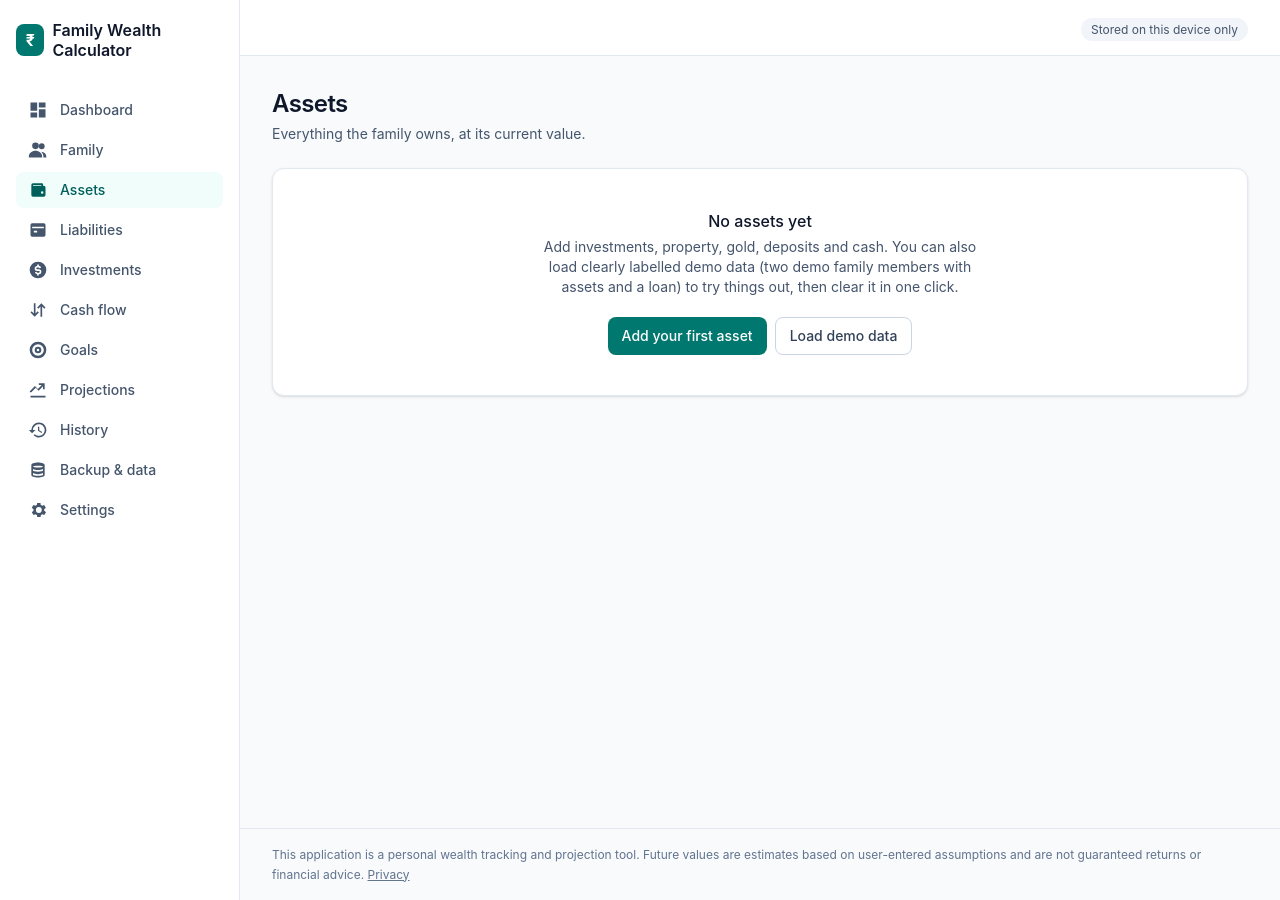
Scenario: Assets page › uses the lakh/crore number format when chosen in Settings
Click the button "Add your first asset": click(687, 336) [608,317,767,355]
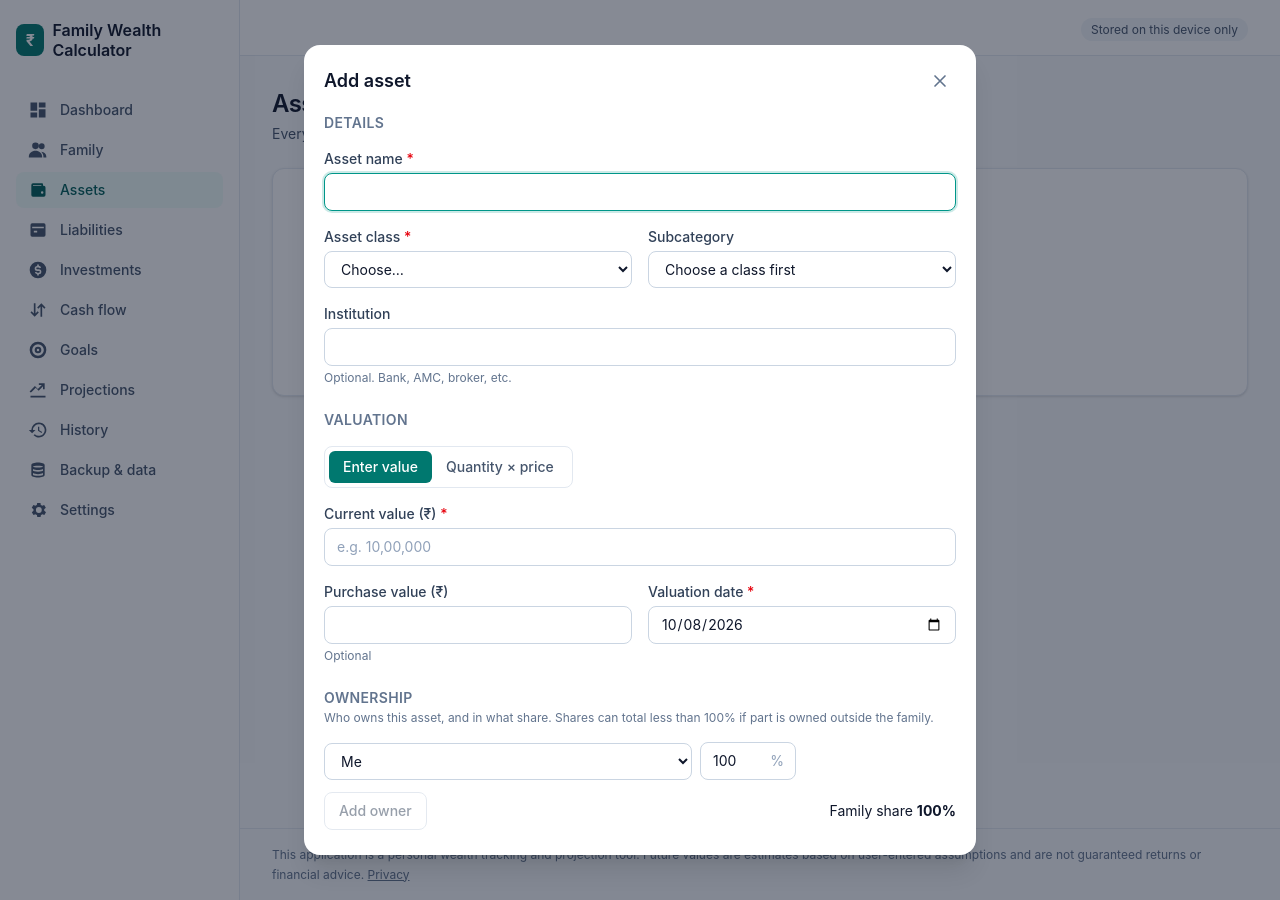
In the field labelled "Asset name *": (640, 192) [324,173,956,211], type "Example Property"
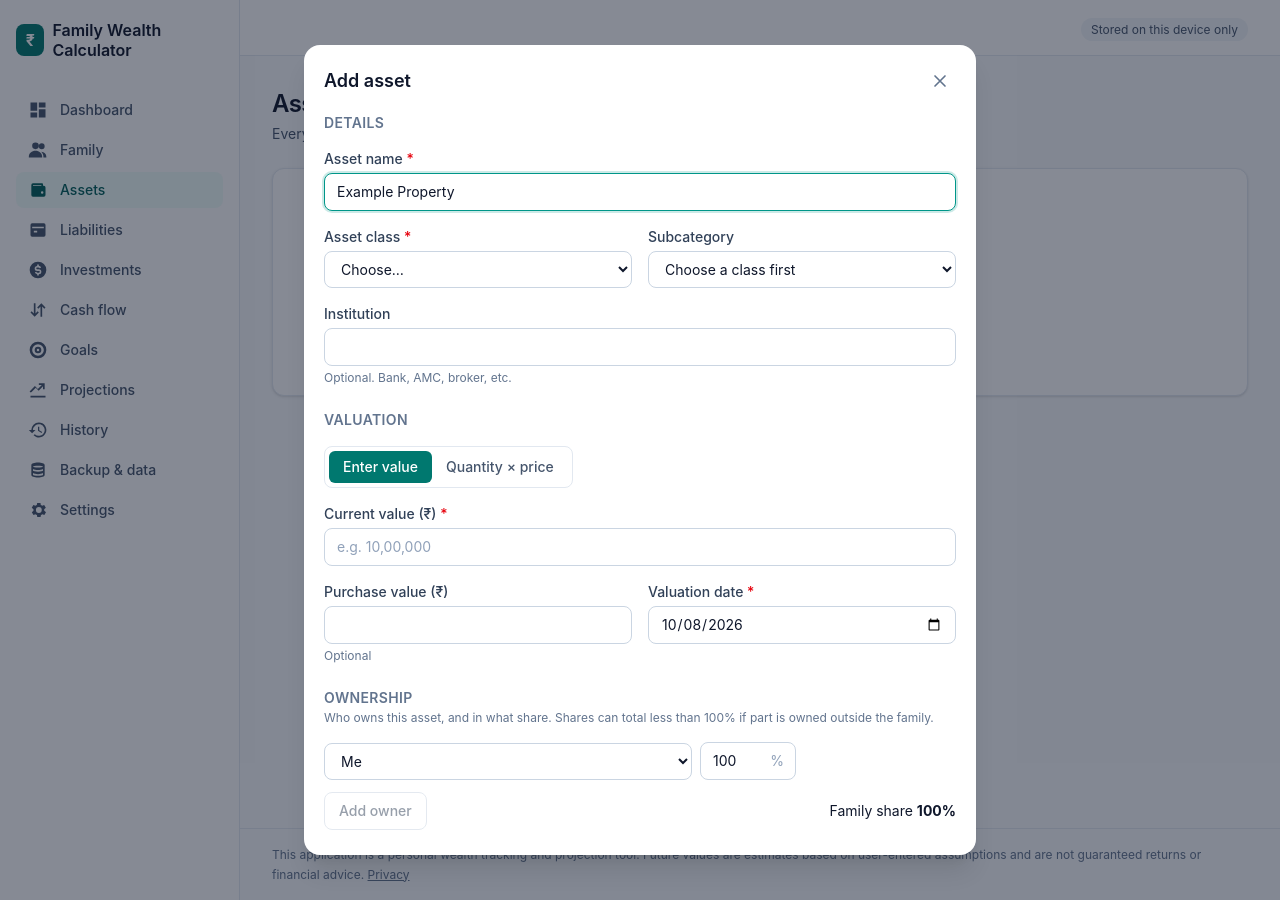
Select "Real Estate" in the dropdown labelled "Asset class *": (478, 270) [324,251,632,288]
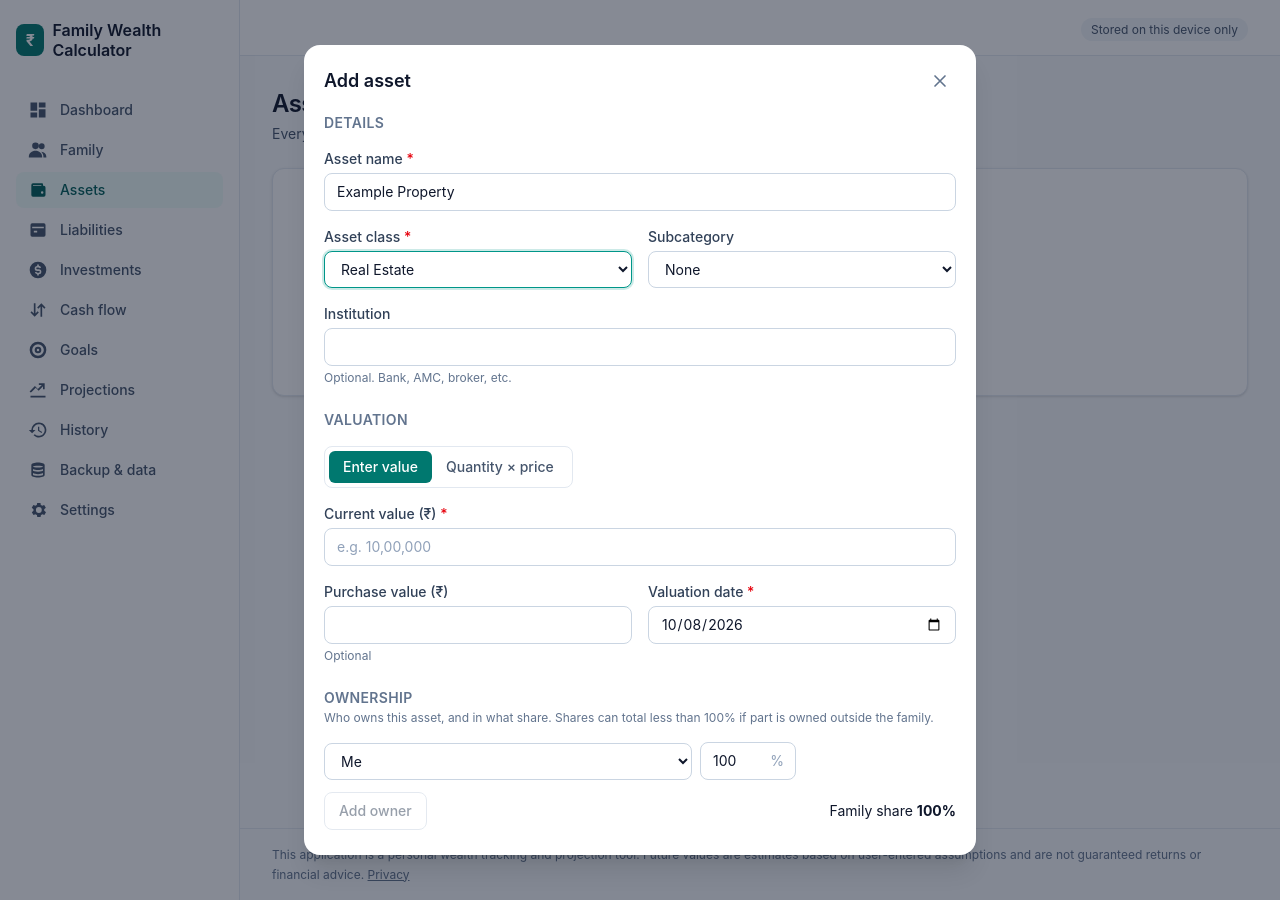
In the field labelled "Current value (₹) *": (640, 547) [324,528,956,566], type "25,00,000"
(page scrolled)
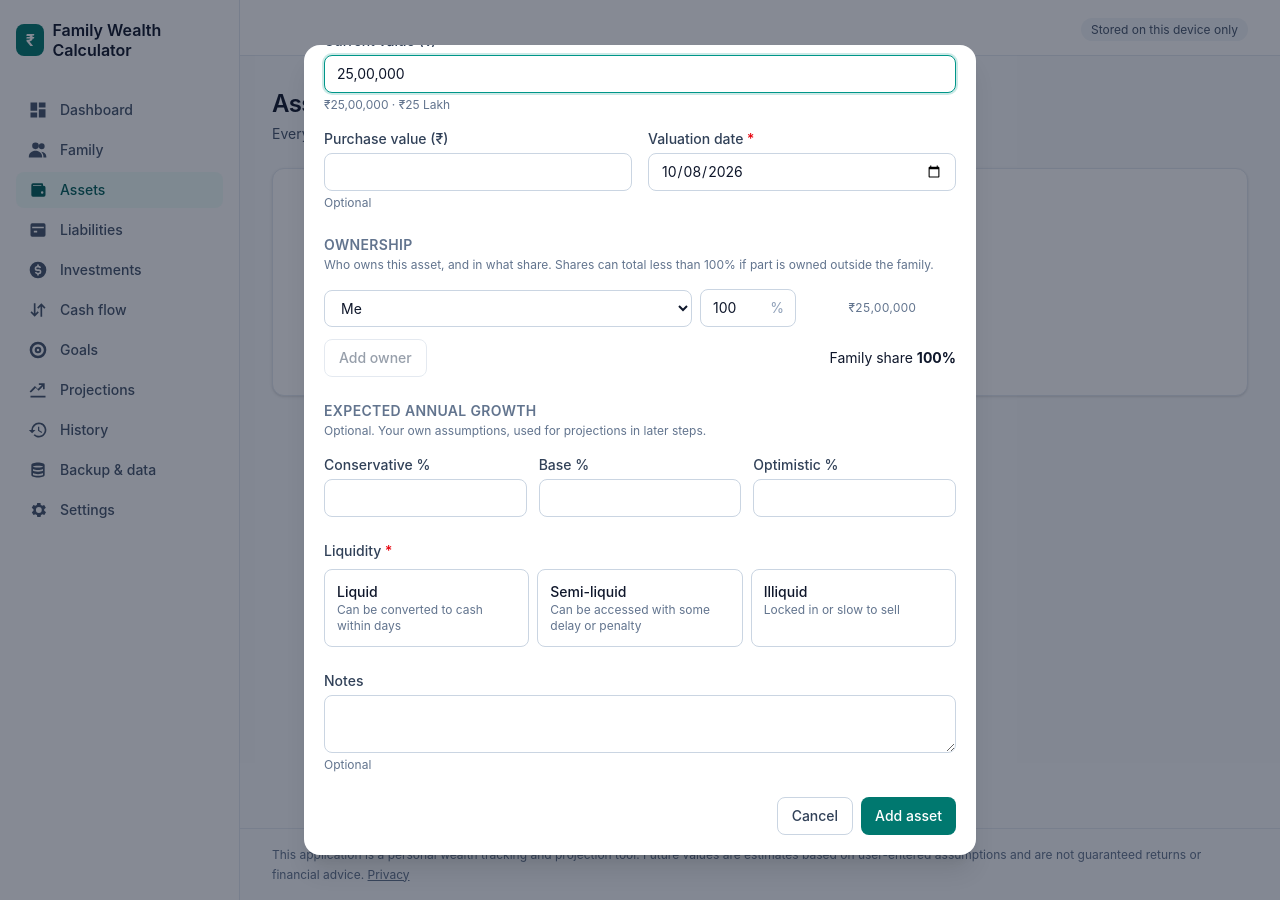
Click the radio button labelled "Illiquid Locked in or slow to sell": click(853, 608) [751,569,956,647]
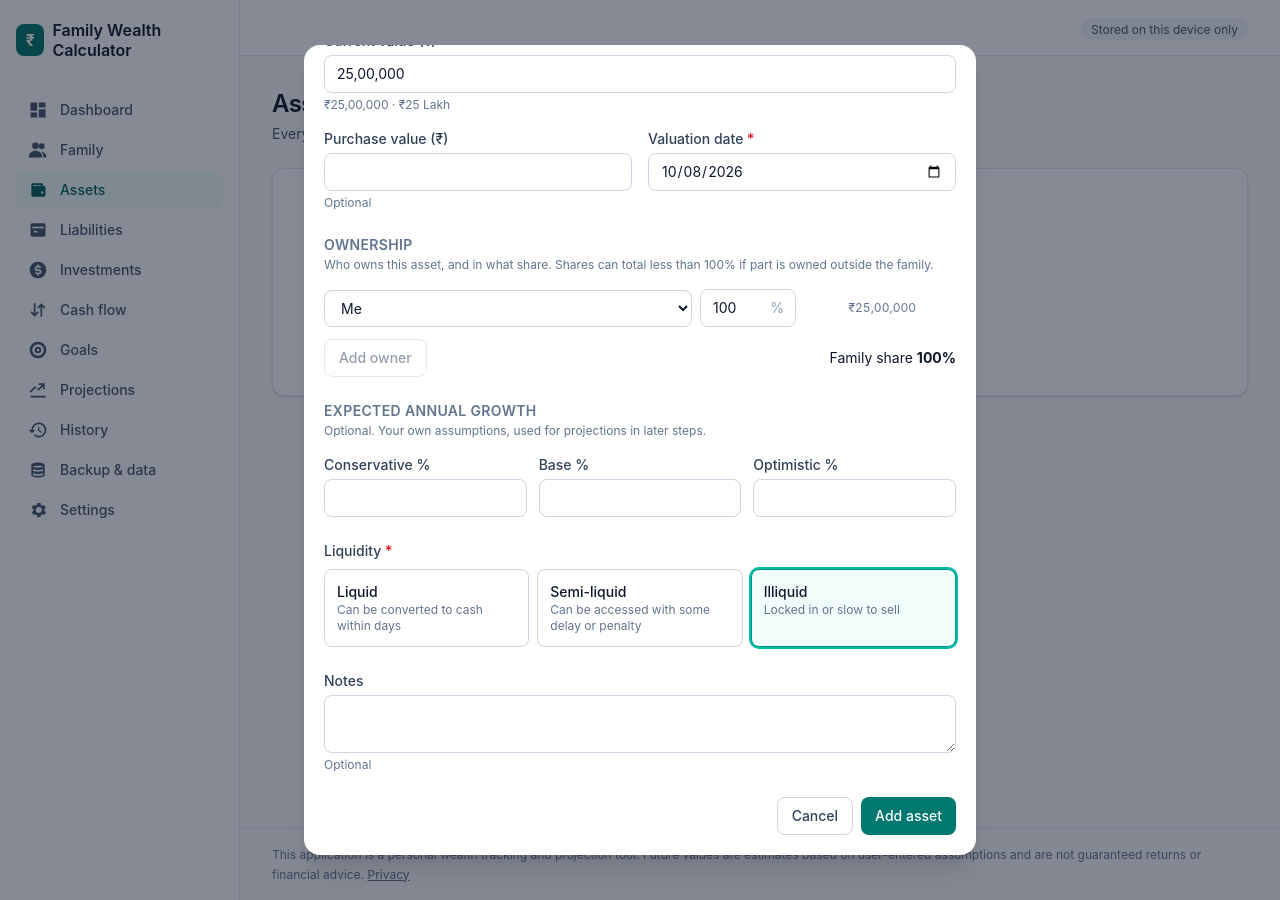
Click the button "Add asset": click(909, 816) [861,797,956,835]
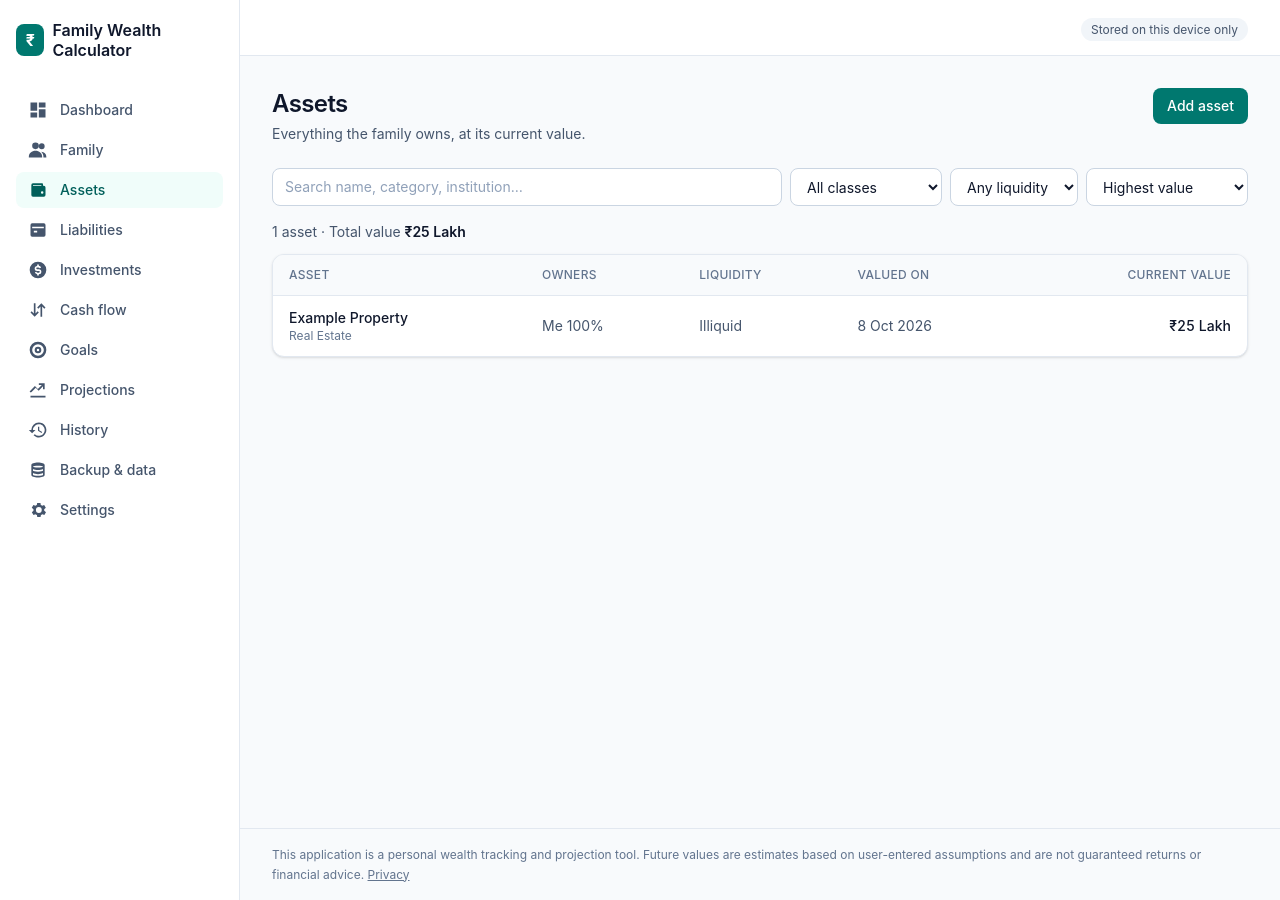
Expected: the dialog is gone
Expected: the cell "₹25 Lakh" is shown, [1020,296,1247,356]
